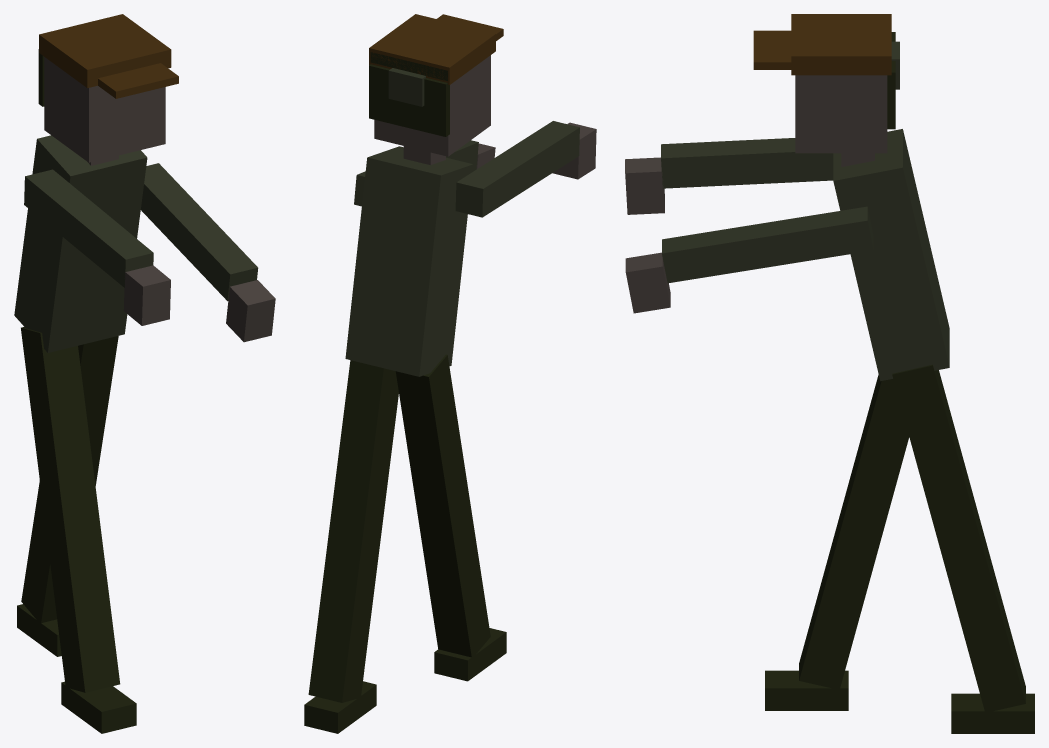
The model's file is SM_ZombiFino_v2_Gorra_LOD0.fbx.
The picture shows the model from 3 angles, left to right: view 1: azimuth 30°, elevation 25°; view 2: azimuth 150°, elevation 25°; view 3: azimuth 270°, elevation 25°; orthographic projection. The views are drawn at different scales.
Parts seen in each view (by area): view 1: SM_zombi_fino_v2_LOD0; view 2: SM_zombi_fino_v2_LOD0; view 3: SM_zombi_fino_v2_LOD0.
Boxes of the visible parts, box(x1,y1,x2,y2) form: SM_zombi_fino_v2_LOD0: box(14, 14, 275, 733); SM_zombi_fino_v2_LOD0: box(304, 14, 596, 733); SM_zombi_fino_v2_LOD0: box(625, 14, 1034, 733).
Size of the model in its own units: 0.38 by 1.79 by 0.9796.
